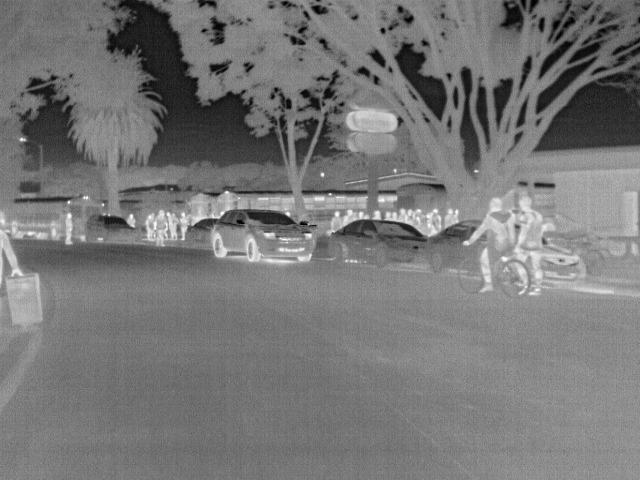car: (210, 207, 317, 264), (328, 219, 429, 269), (427, 220, 485, 272), (537, 240, 589, 287), (83, 212, 141, 245), (183, 214, 219, 246)
person: (466, 196, 516, 295), (516, 193, 544, 299), (152, 209, 167, 249), (443, 207, 460, 234), (330, 210, 346, 234), (431, 207, 444, 234), (170, 211, 181, 241), (145, 213, 154, 241), (344, 208, 356, 226), (396, 207, 408, 223), (127, 212, 139, 227), (370, 209, 384, 221), (355, 209, 367, 221), (383, 210, 395, 222)
